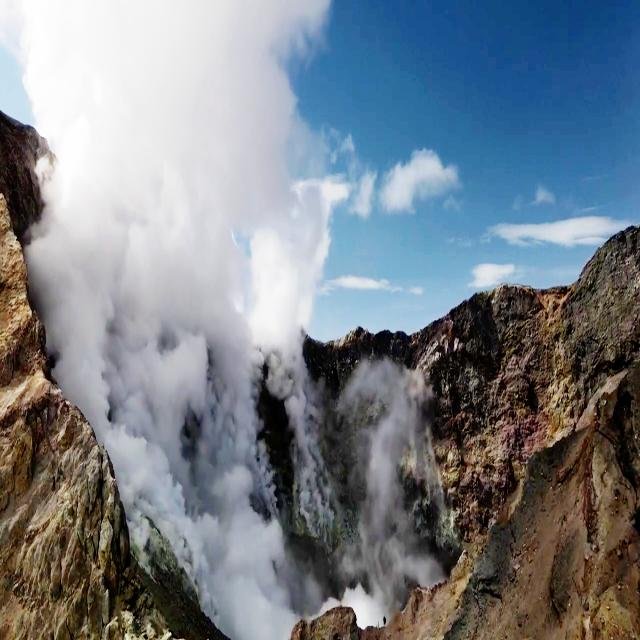asap: (10, 7, 470, 640), (95, 4, 313, 634), (17, 1, 155, 519), (106, 159, 206, 576), (332, 342, 464, 632), (249, 152, 343, 552)
